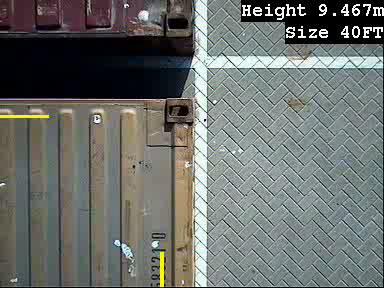groundmarker_2: (199, 125, 235, 178)
